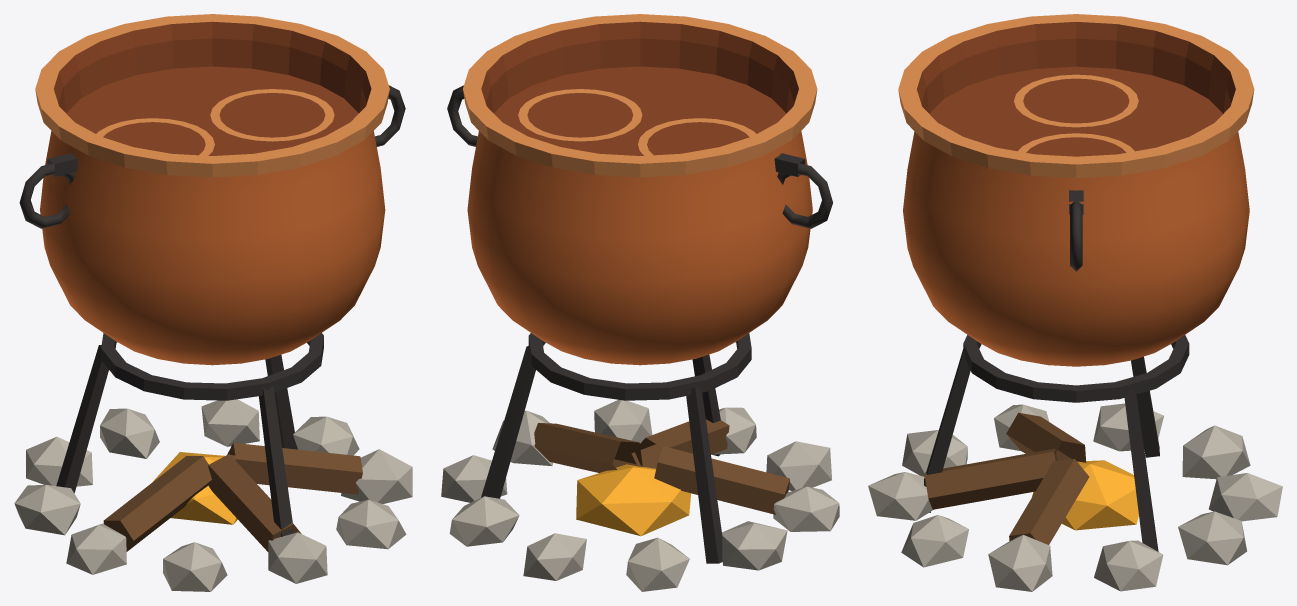
File: pot.glb
3 renders of one model, left to right at view 1: azimuth 30°, elevation 25°; view 2: azimuth 150°, elevation 25°; view 3: azimuth 270°, elevation 25°, orthographic.
Visible parts, largest first — view 1: pot_body, stove_base; view 2: pot_body, stove_base; view 3: pot_body, stove_base.
Boxes of the visible parts, bbox=[...] form: pot_body: bbox=[19, 14, 405, 365]; stove_base: bbox=[14, 333, 412, 591]; pot_body: bbox=[447, 14, 832, 365]; stove_base: bbox=[441, 333, 839, 591]; pot_body: bbox=[898, 14, 1254, 366]; stove_base: bbox=[868, 335, 1282, 591].
Size of the model in its own units: 0.968 by 1.01 by 0.8971.
